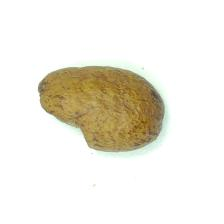NG: (38, 86, 95, 150)
